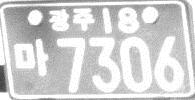0: (118, 35, 153, 94)
1: (100, 6, 114, 35)
3: (87, 35, 121, 93)
6: (152, 35, 185, 93)
7: (55, 35, 86, 94)
8: (117, 6, 140, 35)
광주_O: (47, 6, 96, 33)
마: (12, 37, 49, 77)
